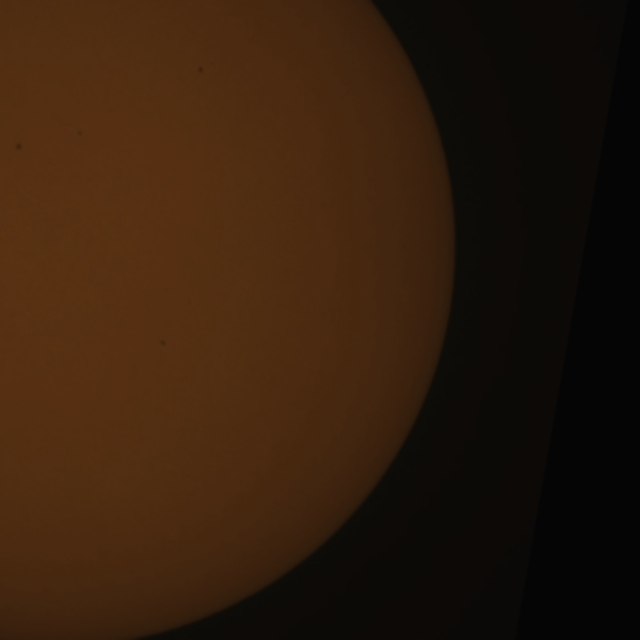sunspot: (13, 142, 24, 153), (196, 65, 205, 75), (159, 338, 168, 348), (76, 130, 83, 138)
